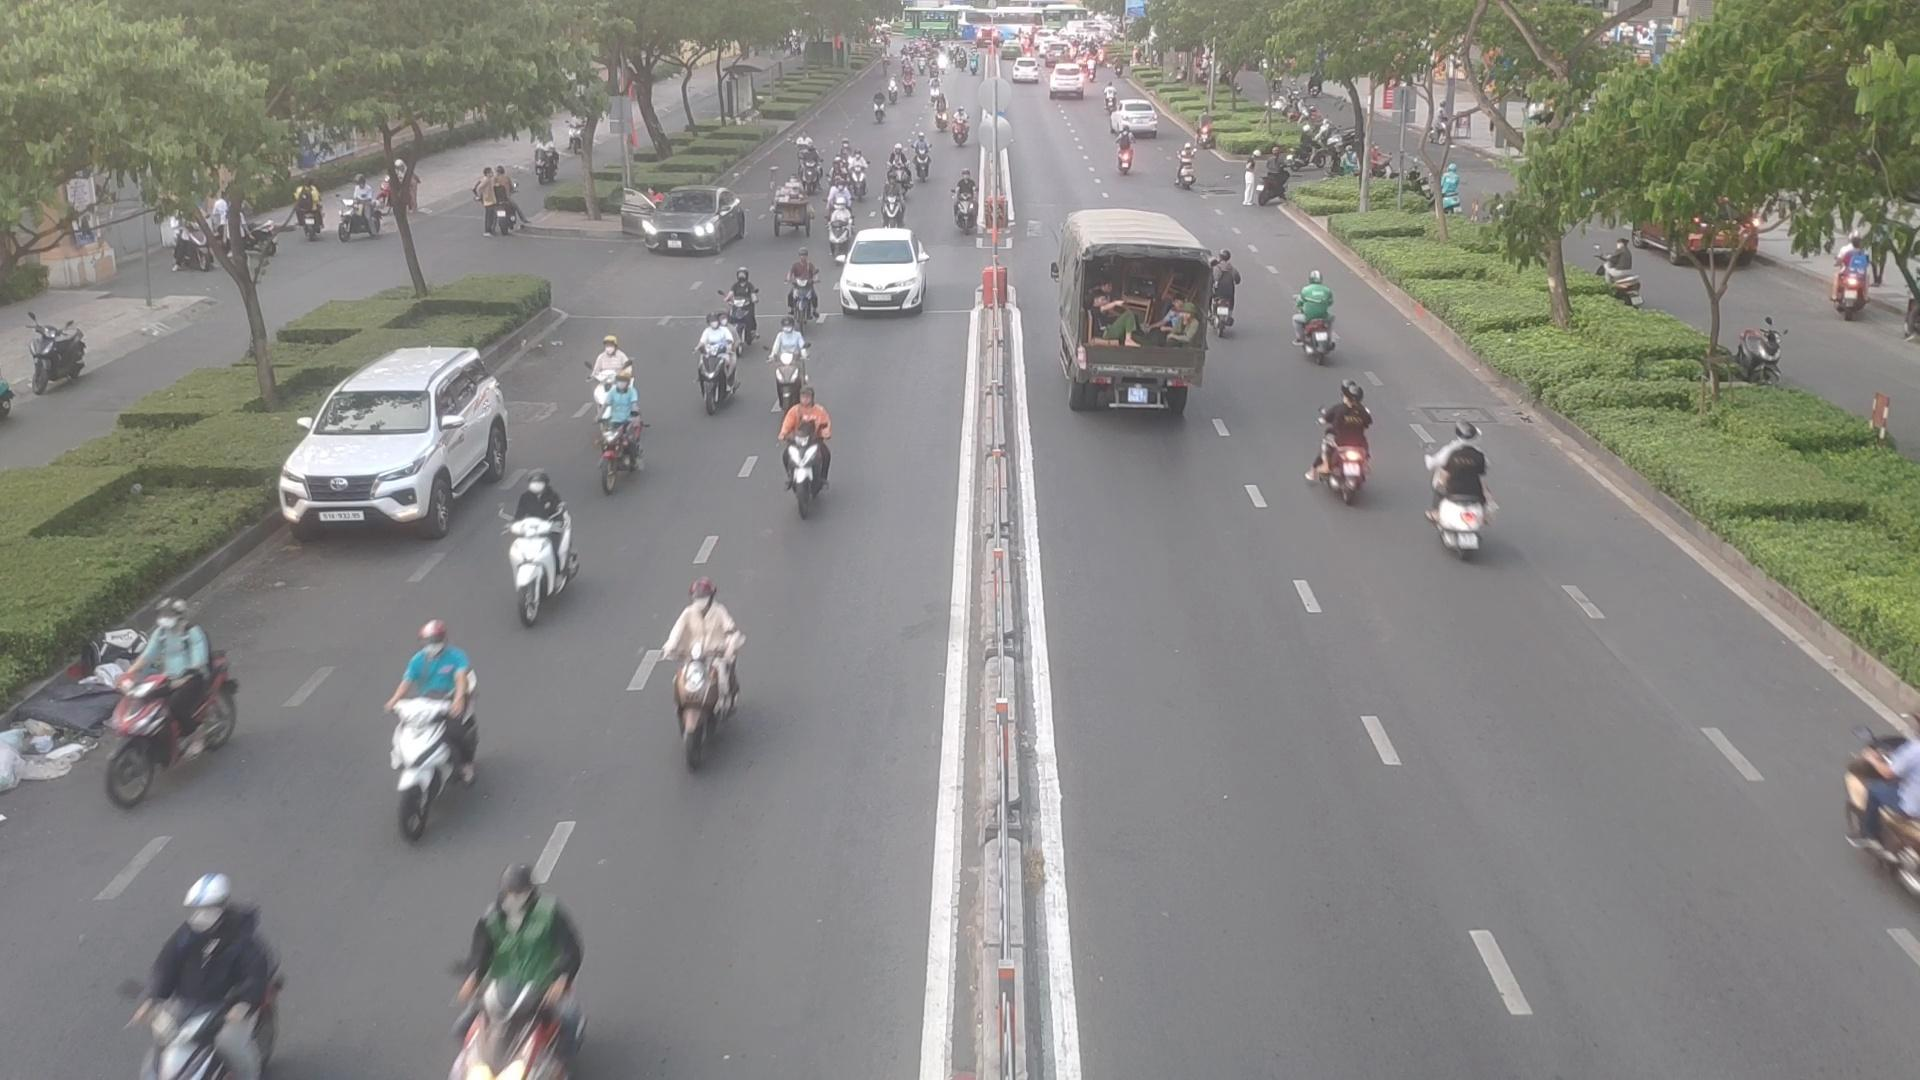car: (286, 351, 522, 542), (620, 191, 750, 258), (833, 235, 928, 318)
motorbike: (88, 599, 243, 790), (127, 895, 278, 1080), (450, 868, 579, 1076), (367, 626, 484, 822), (630, 588, 749, 769), (1844, 707, 1920, 910), (501, 476, 597, 621), (774, 397, 847, 521), (1423, 433, 1497, 553), (1313, 393, 1387, 495), (1288, 274, 1352, 364), (690, 323, 744, 414), (601, 371, 640, 487), (1207, 243, 1240, 345), (716, 276, 760, 347), (773, 316, 808, 404), (789, 258, 825, 330), (1171, 146, 1200, 191), (1106, 137, 1139, 175), (884, 150, 911, 193), (876, 186, 903, 227), (802, 156, 828, 194), (914, 145, 938, 183)
